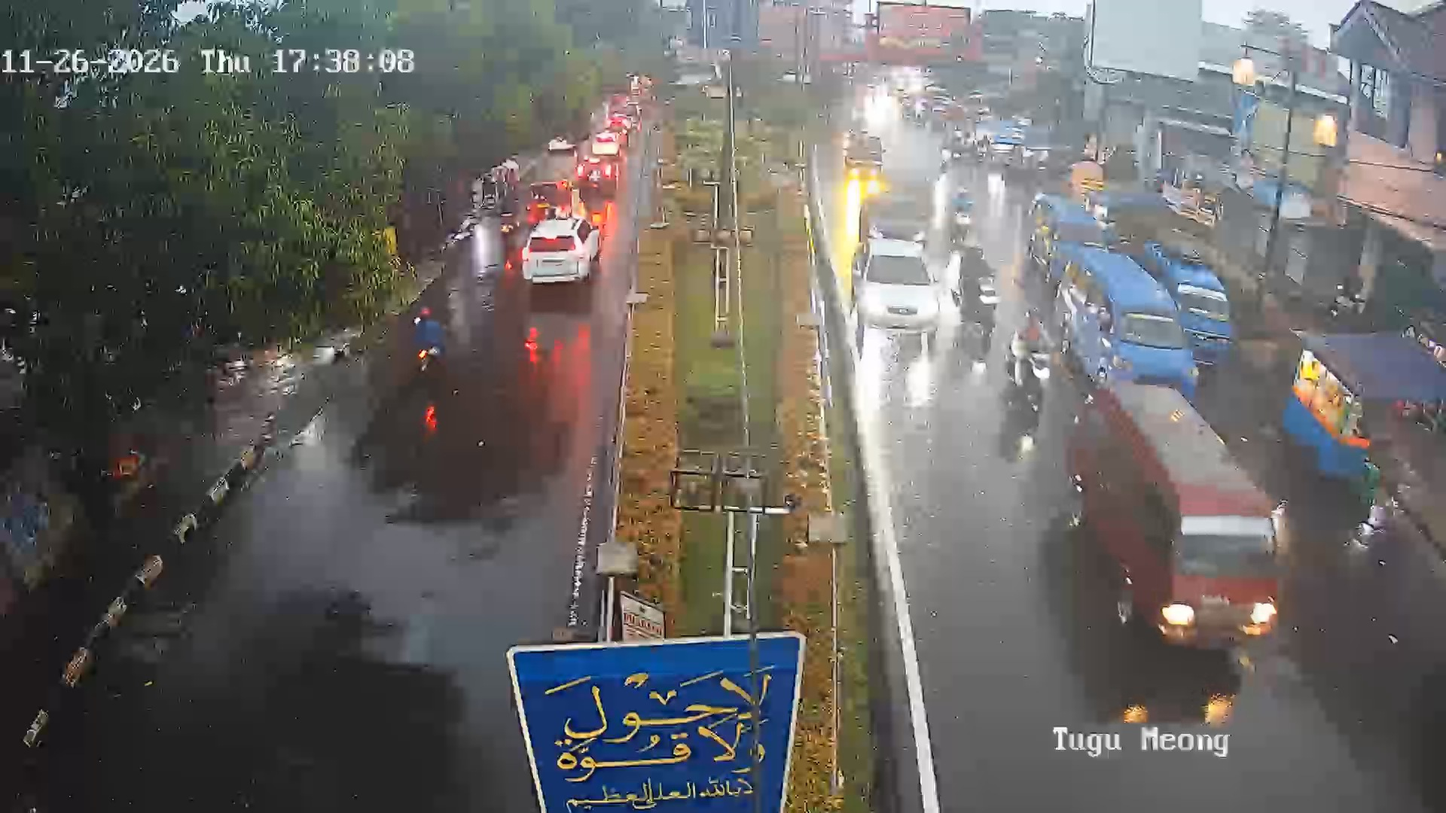Gerobak: (1275, 324, 1446, 491)
